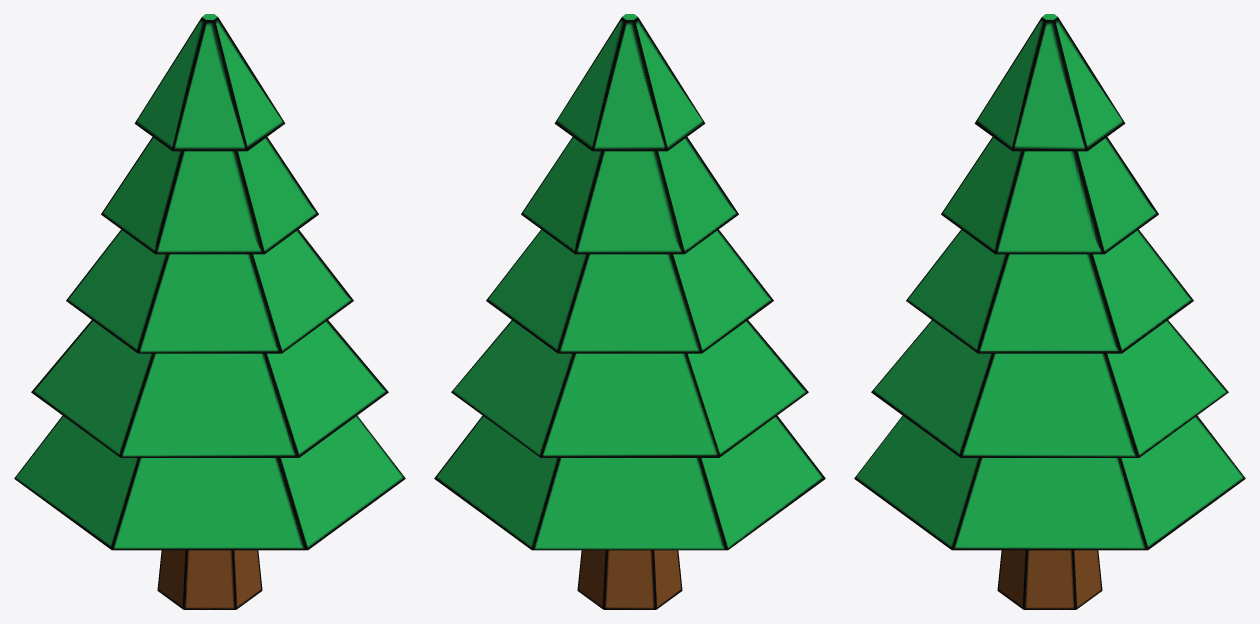
Rendered from Pine1.fbx.
3 views of the same model, side by side, from view 1: azimuth 30°, elevation 25°; view 2: azimuth 150°, elevation 25°; view 3: azimuth 270°, elevation 25° (orthographic).
Parts seen in each view (by area): view 1: Pine1; view 2: Pine1; view 3: Pine1.
Boxes of the visible parts, x1=… form: Pine1: x1=14, y1=14, x2=405, y2=609; Pine1: x1=434, y1=14, x2=825, y2=609; Pine1: x1=854, y1=14, x2=1245, y2=609.
Bounding box in the file's own units: 235 × 438 × 271.
1 material, 1 textured.
